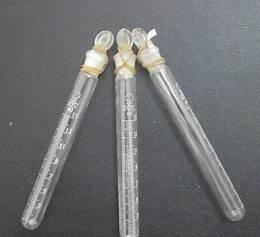Test tube: (38, 23, 245, 226)
